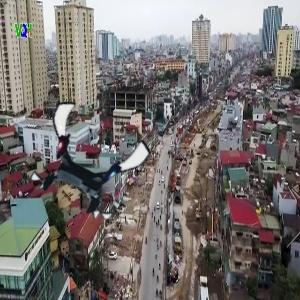drone: (33, 107, 141, 215)
